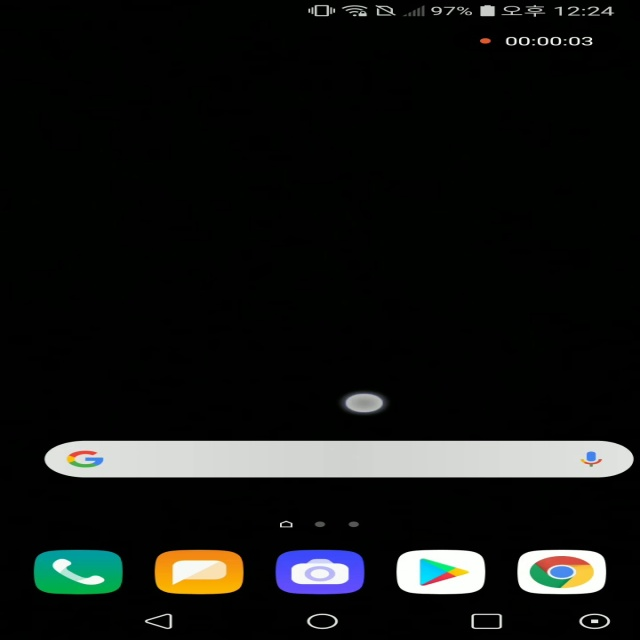Cursor: (343, 393, 387, 415)
